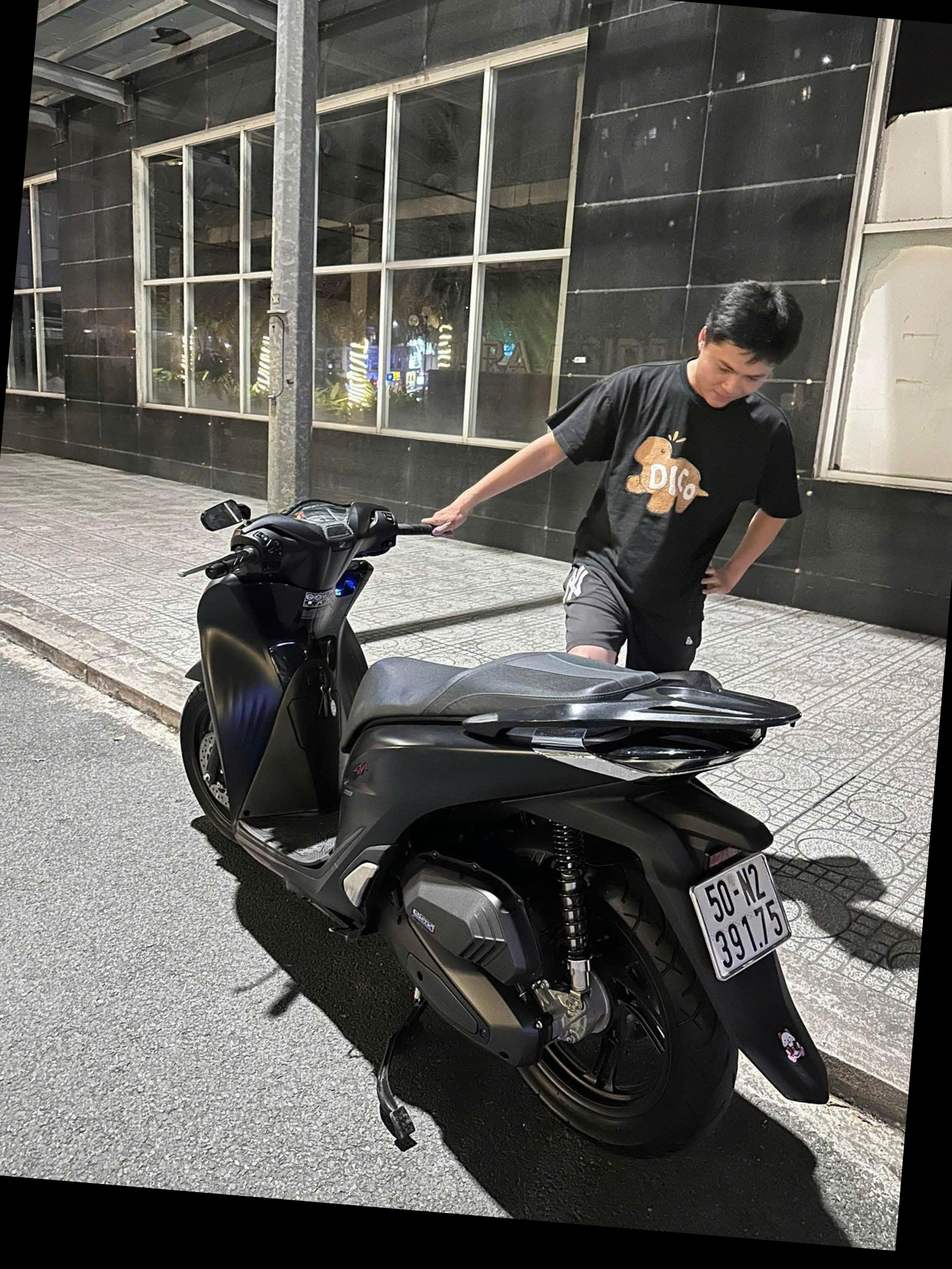Bien-so: (730, 830, 841, 964)
